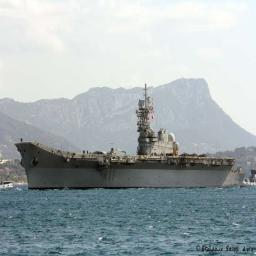Portanaves: (17, 82, 250, 196)
